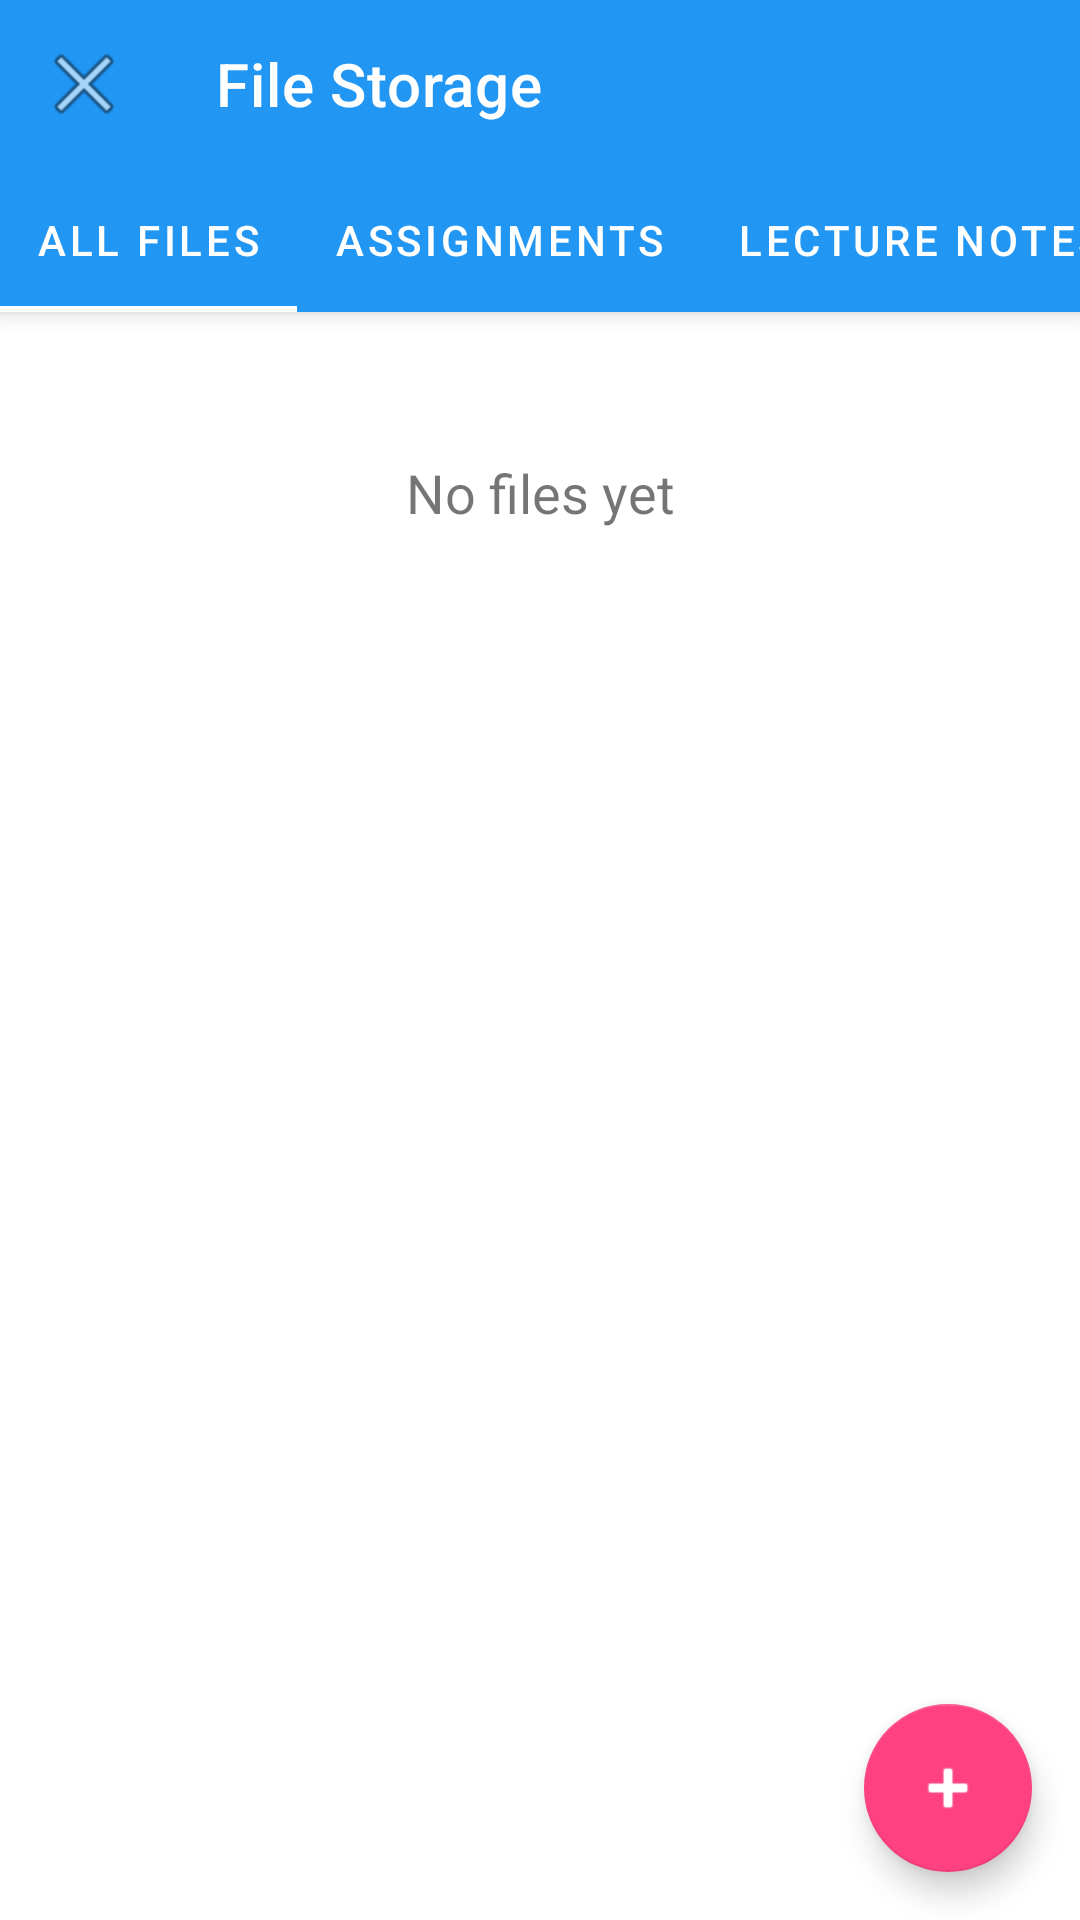

Screen size 1080 × 1920. Icon name, then its box in pixels as (x1, y1, x2, y2):
Add file: (864, 1704, 1032, 1872)
